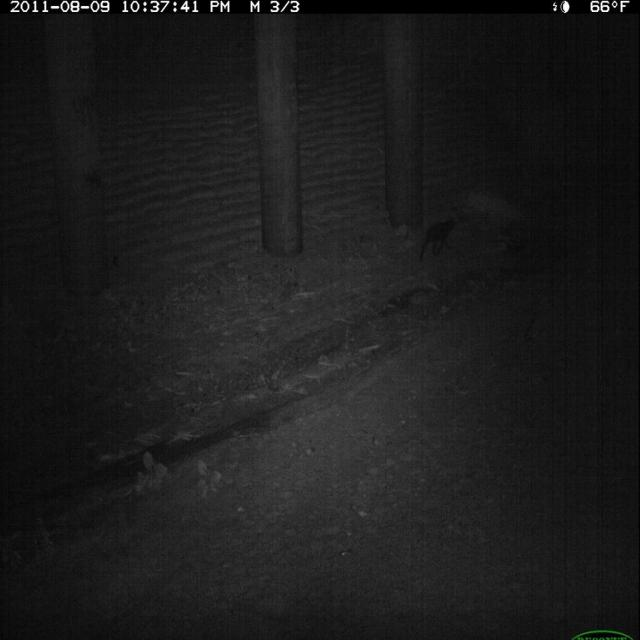cat: (414, 209, 464, 270)
